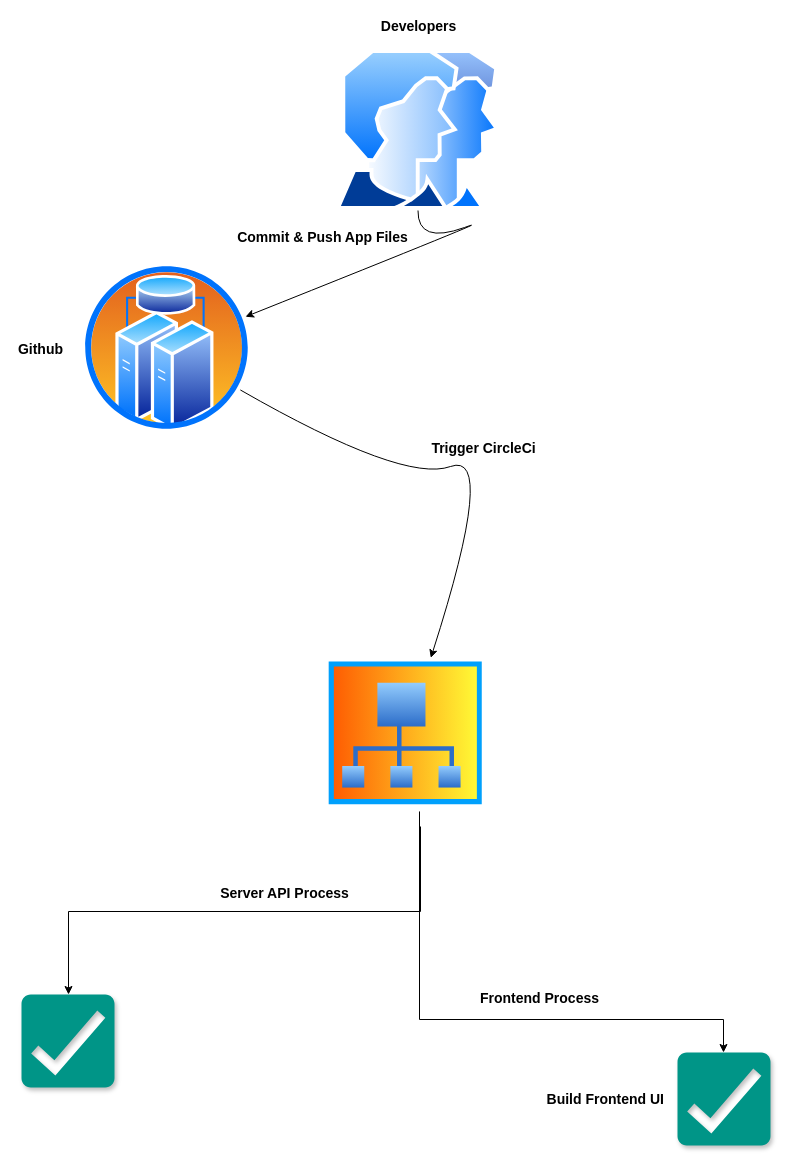
Image size: 793x1169. Some labels were removed from this diagram. Each missing label, with the centre of its shape:
Build Server API: the point at 68,1042
CircleCi: the point at 406,733
